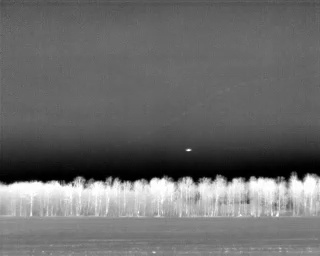DRONE: (182, 145, 195, 156)
